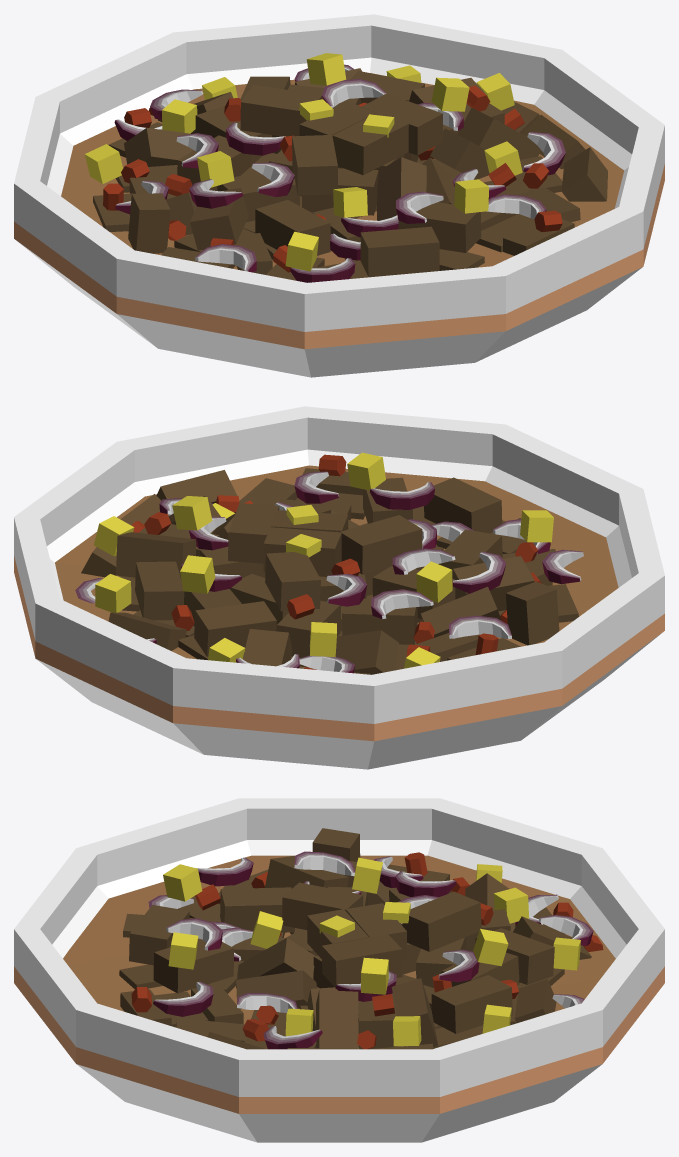
The model's file is FINAL_Kilawin na Kambing.fbx.
3 renders of one model, top to bottom at view 1: azimuth 30°, elevation 25°; view 2: azimuth 150°, elevation 25°; view 3: azimuth 270°, elevation 25°, orthographic. The views are drawn at different scales.
Visible parts, largest first — view 1: Kilawin na Kambing; view 2: Kilawin na Kambing; view 3: Kilawin na Kambing.
Boxes of the visible parts, box(x1,y1,x2,y2) form: Kilawin na Kambing: box(14, 14, 664, 377); Kilawin na Kambing: box(14, 406, 664, 769); Kilawin na Kambing: box(14, 798, 664, 1142).
Size of the model in its own units: 109 by 26.39 by 115.
